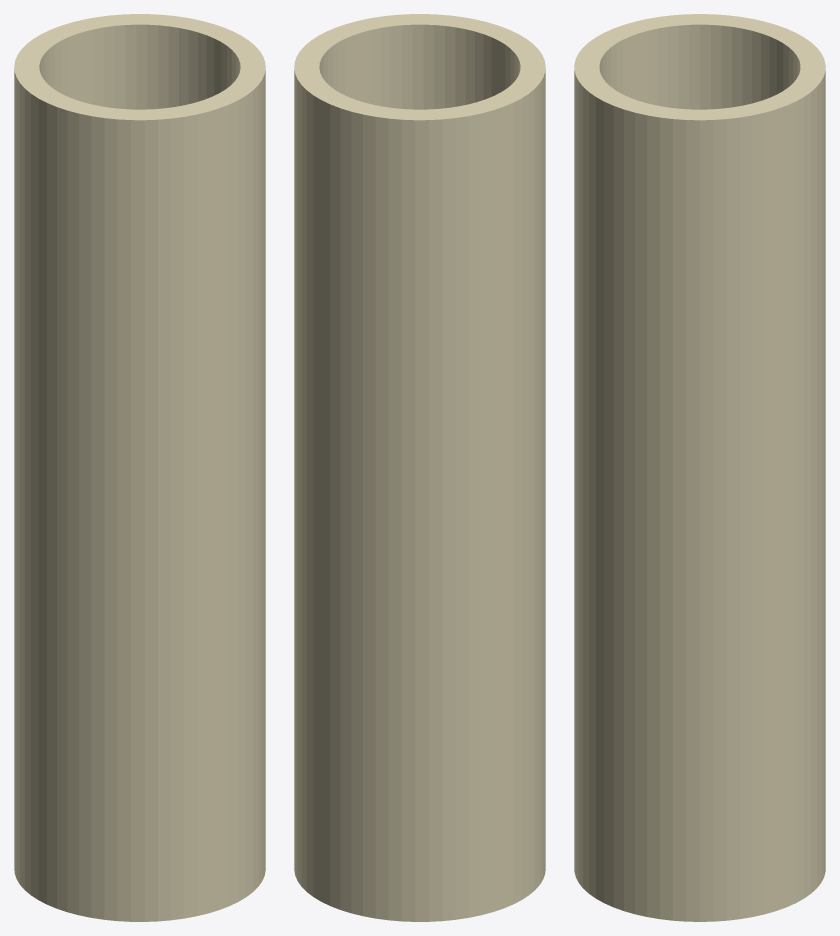
File: injector-inlet-filter.glb
The picture shows the model from 3 angles, left to right: view 1: azimuth 30°, elevation 25°; view 2: azimuth 150°, elevation 25°; view 3: azimuth 270°, elevation 25°; orthographic projection.
Visible parts, largest first — view 1: world; view 2: world; view 3: world.
Boxes of the visible parts, left/top/right/bottom form: world: left=14, top=14, right=265, bottom=921; world: left=294, top=14, right=545, bottom=921; world: left=574, top=14, right=825, bottom=921.
Size of the model in its own units: 0.006 by 0.0211 by 0.00599.
